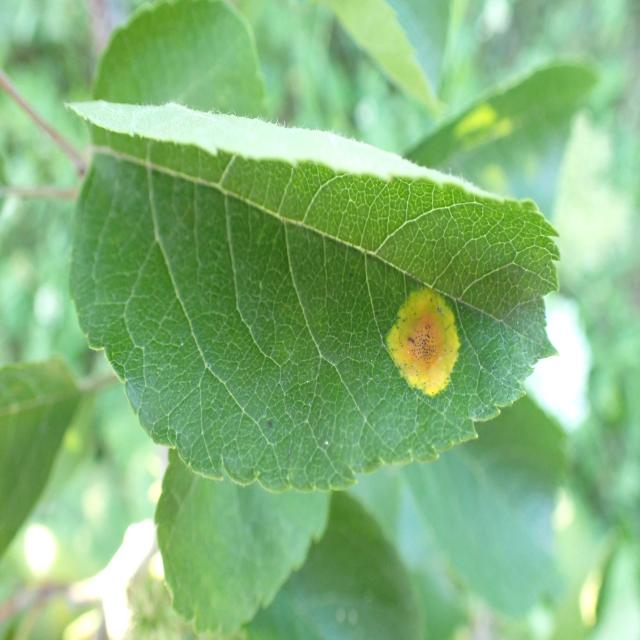Rust: (384, 271, 466, 402)
